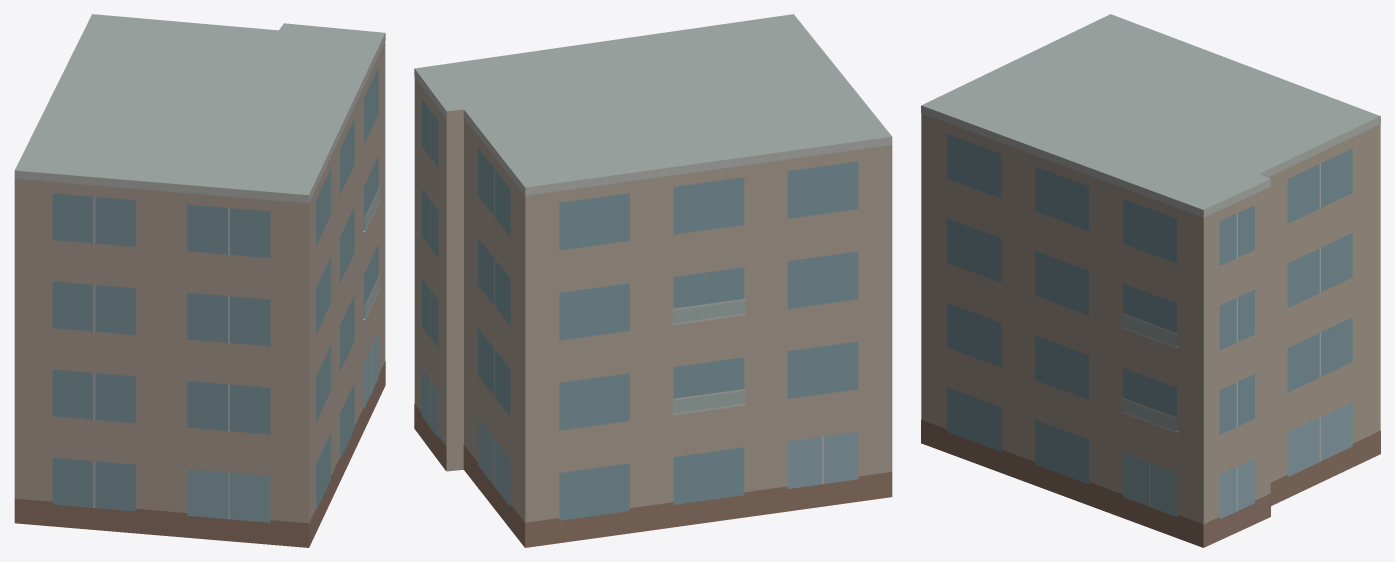
The model's file is survey-upis-32527583.glb.
The picture shows the model from 3 angles, left to right: view 1: azimuth 30°, elevation 25°; view 2: azimuth 150°, elevation 25°; view 3: azimuth 270°, elevation 25°; orthographic projection. The views are drawn at different scales.
Parts seen in each view (by area): view 1: survey-upis-32527583.tmp; view 2: survey-upis-32527583.tmp; view 3: survey-upis-32527583.tmp.
Part boxes in pixels (bbox=[...]): survey-upis-32527583.tmp: bbox=[14, 14, 385, 547]; survey-upis-32527583.tmp: bbox=[414, 14, 892, 547]; survey-upis-32527583.tmp: bbox=[921, 14, 1380, 547].
Bounding box in the file's own units: 13.26 × 10.65 × 13.13.
